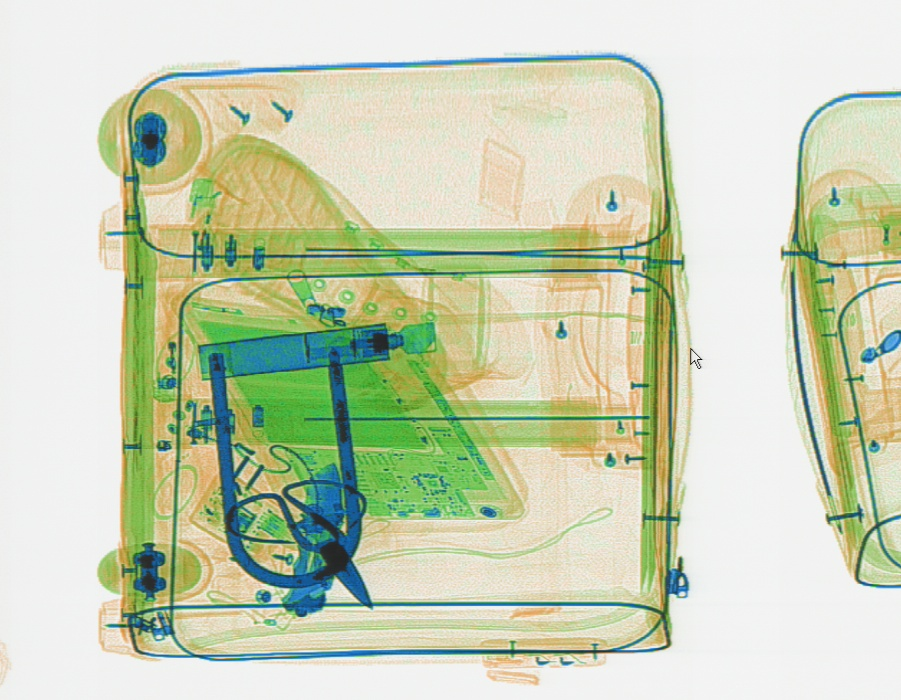knife: (281, 462, 343, 622)
lighter: (171, 172, 219, 286)
scissors: (221, 476, 374, 611)
